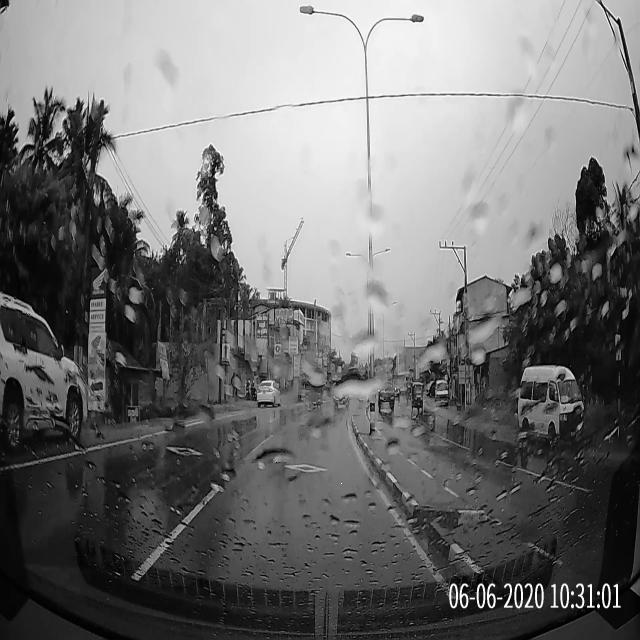diamond: (218, 460, 384, 488)
